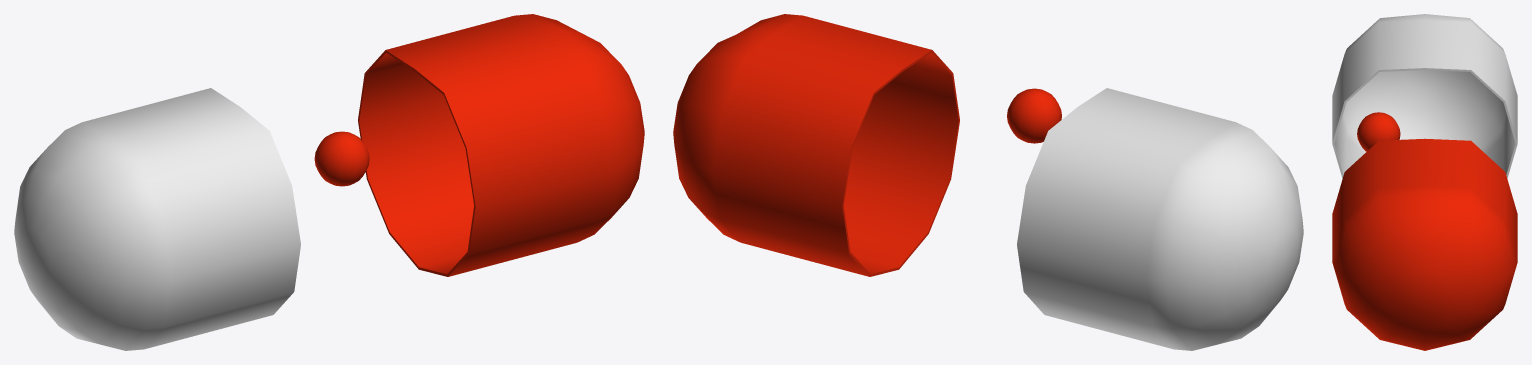
The model's file is Pill.fbx.
The picture shows the model from 3 angles, left to right: view 1: azimuth 30°, elevation 25°; view 2: azimuth 150°, elevation 25°; view 3: azimuth 270°, elevation 25°; orthographic projection. The views are drawn at different scales.
Visible parts, largest first — view 1: WhitePill, RedPill, PillBall; view 2: RedPill, WhitePill, PillBall; view 3: RedPill, WhitePill, PillBall.
Part boxes in pixels (x1,y1,x2,y2): WhitePill: (14,88,300,350); RedPill: (358,14,644,276); PillBall: (314,131,369,186); RedPill: (673,14,959,276); WhitePill: (1017,88,1303,350); PillBall: (1007,88,1061,143); RedPill: (1332,138,1517,350); WhitePill: (1332,14,1517,178); PillBall: (1357,112,1400,151).
Bounding box in the file's own units: 251 × 83.28 × 86.12.
